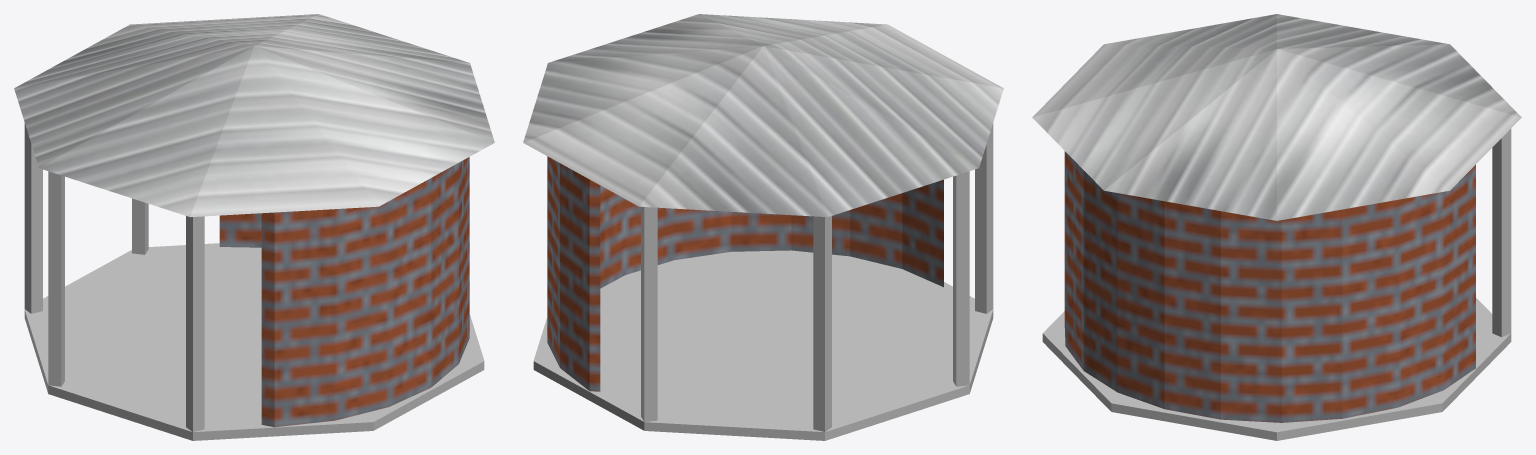
Rendered from EspaçoBrincar.fbx.
The picture shows the model from 3 angles, left to right: view 1: azimuth 30°, elevation 25°; view 2: azimuth 150°, elevation 25°; view 3: azimuth 270°, elevation 25°; orthographic projection.
Parts seen in each view (by area): view 1: Cylinder.001, Parede frente, Cylinder, Cube.001; view 2: Cylinder.001, Cylinder, Parede frente, Cube.001; view 3: Parede frente, Cylinder.001, Cylinder, Cube.001.
Boxes of the visible parts, left/top/right/bottom form: Cylinder.001: left=14, top=14, right=494, bottom=217; Parede frente: left=219, top=157, right=469, bottom=427; Cylinder: left=24, top=243, right=484, bottom=440; Cube.001: left=24, top=123, right=204, bottom=431; Cylinder.001: left=523, top=14, right=1003, bottom=217; Cylinder: left=533, top=250, right=993, bottom=440; Parede frente: left=547, top=156, right=943, bottom=391; Cube.001: left=641, top=123, right=993, bottom=431; Parede frente: left=1064, top=151, right=1475, bottom=422; Cylinder.001: left=1032, top=14, right=1521, bottom=220; Cylinder: left=1042, top=298, right=1511, bottom=440; Cube.001: left=1492, top=128, right=1511, bottom=337.
Bounding box in the file's own units: 22408 × 14789 × 22408.
